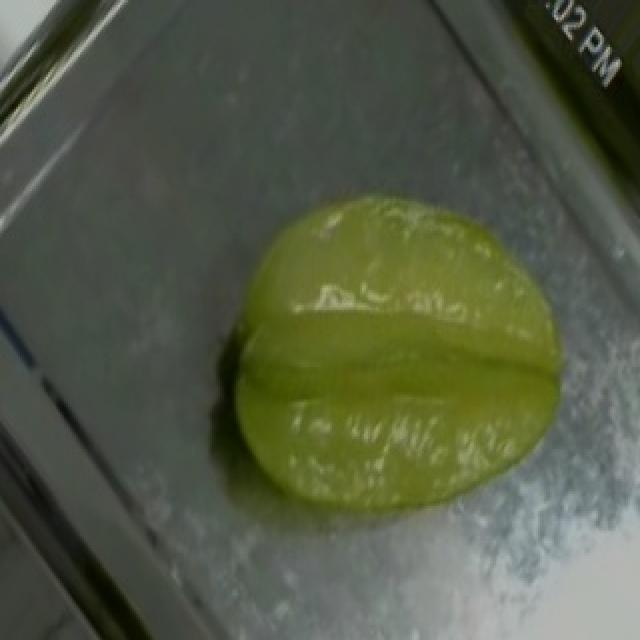fruit: (190, 141, 628, 568)
